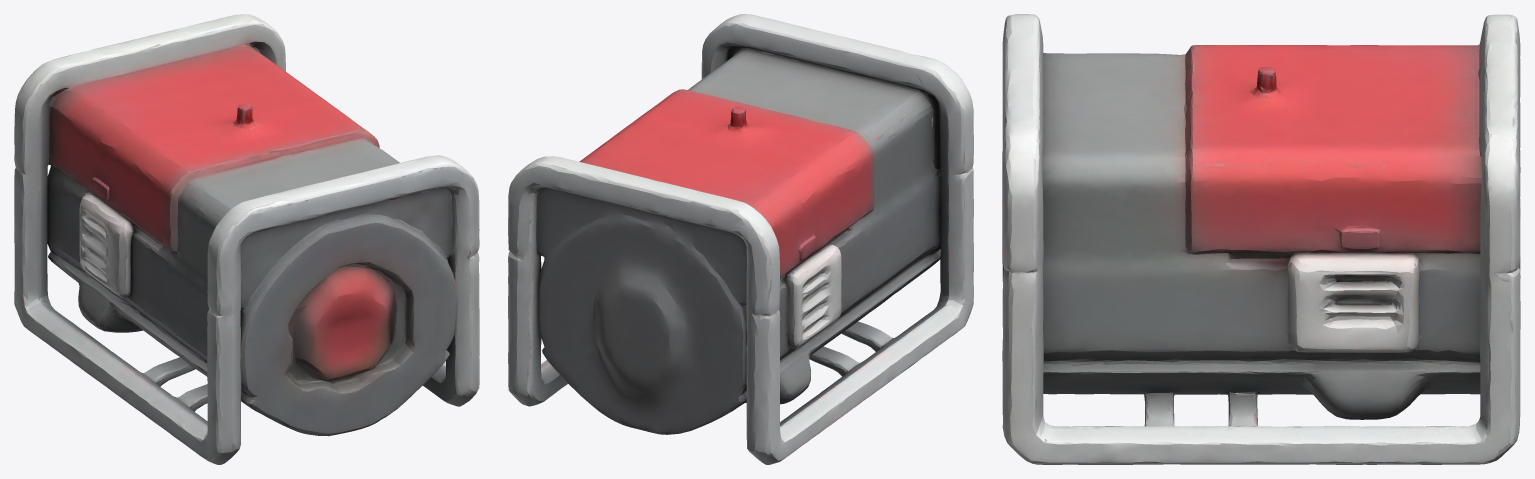
The model's file is generator.glb.
The picture shows the model from 3 angles, left to right: view 1: azimuth 30°, elevation 25°; view 2: azimuth 150°, elevation 25°; view 3: azimuth 270°, elevation 25°; orthographic projection. The views are drawn at different scales.
Visible parts, largest first — view 1: generator; view 2: generator; view 3: generator.
Boxes of the visible parts, x1,y1,x2,y2 form: generator: (14, 14, 479, 464); generator: (508, 14, 973, 464); generator: (1002, 14, 1520, 464).
Bounding box in the file's own units: 1.39 × 1.32 × 1.91.
1 material, 1 textured.
